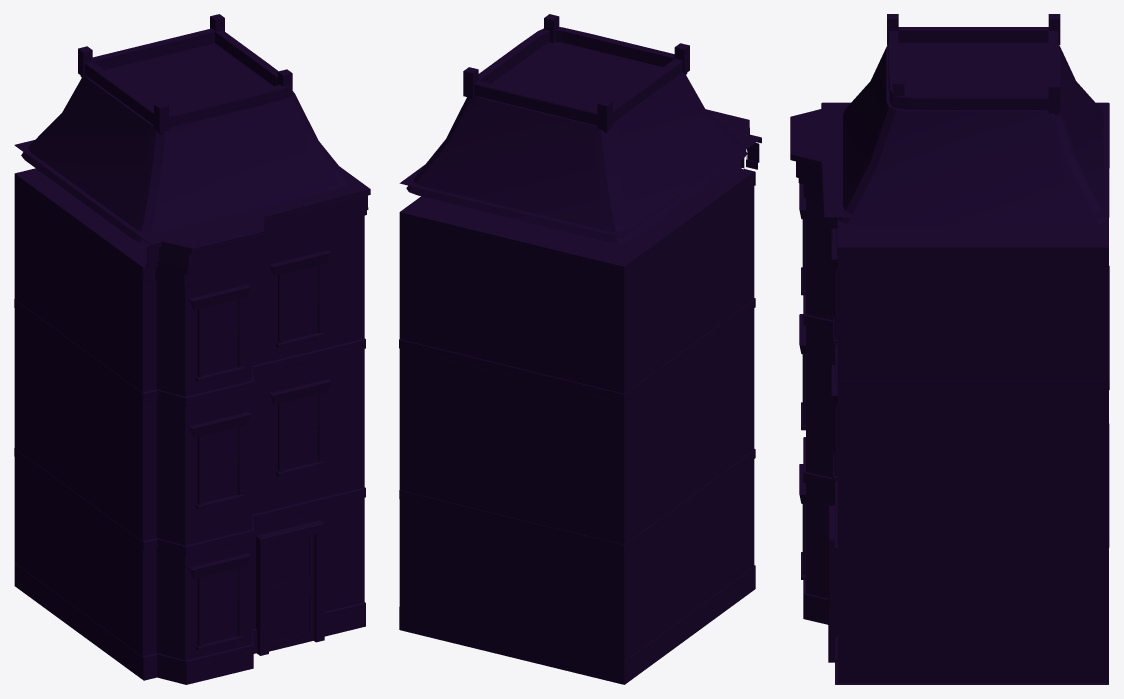
The model's file is AS_Building_2.0_Terrace_L.fbx.
3 views of the same model, side by side, from view 1: azimuth 30°, elevation 25°; view 2: azimuth 150°, elevation 25°; view 3: azimuth 270°, elevation 25° (orthographic). The views are drawn at different scales.
Parts seen in each view (by area): view 1: Box001, Box002, Box003, Decor_L, Top_L, Window_Pane_L, Window_L, Object001, Door_L, Door_Frame_L; view 2: Box001, Box002, Decor_L, Object001, Top_L; view 3: Box001, Box002, Box003, Top_L, Object001, Decor_L, Window_L, Door_Frame_L.
Boxes of the visible parts, bbox=[...] form: Box001: bbox=[14, 168, 364, 656]; Box002: bbox=[21, 43, 350, 243]; Box003: bbox=[156, 270, 251, 660]; Decor_L: bbox=[14, 299, 365, 684]; Top_L: bbox=[14, 140, 370, 286]; Window_Pane_L: bbox=[202, 265, 318, 644]; Window_L: bbox=[189, 250, 331, 651]; Object001: bbox=[80, 28, 290, 134]; Door_L: bbox=[269, 535, 314, 651]; Door_Frame_L: bbox=[256, 520, 324, 655]; Box001: bbox=[399, 167, 754, 683]; Box002: bbox=[406, 42, 747, 242]; Decor_L: bbox=[399, 298, 755, 684]; Object001: bbox=[467, 27, 687, 132]; Top_L: bbox=[399, 109, 761, 238]; Box001: bbox=[837, 217, 1108, 682]; Box002: bbox=[838, 42, 1107, 225]; Box003: bbox=[806, 198, 837, 598]; Top_L: bbox=[790, 102, 1109, 260]; Object001: bbox=[888, 27, 1057, 115]; Decor_L: bbox=[803, 266, 1109, 684]; Window_L: bbox=[799, 183, 837, 579]; Door_Frame_L: bbox=[828, 505, 837, 662].
Bounding box in the file's own units: 4613 × 10803 × 5416.
